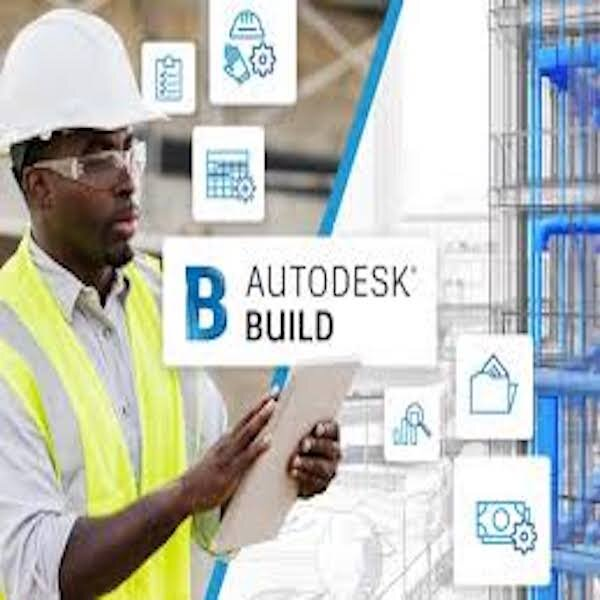helmet: (2, 10, 146, 145)
vest: (11, 238, 182, 600)
